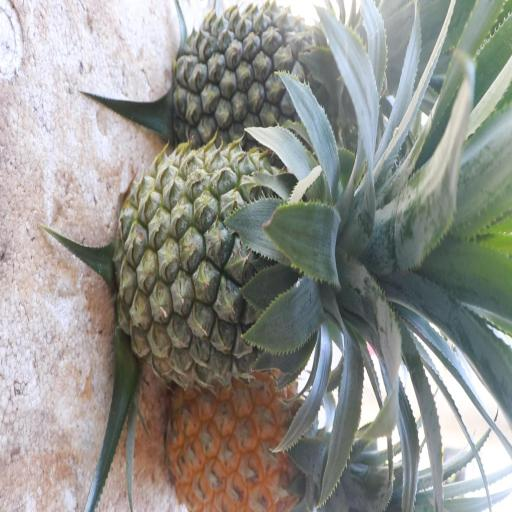------------------------------: (118, 155, 360, 383)
Pineapple - v8 v1: (170, 370, 344, 512)
